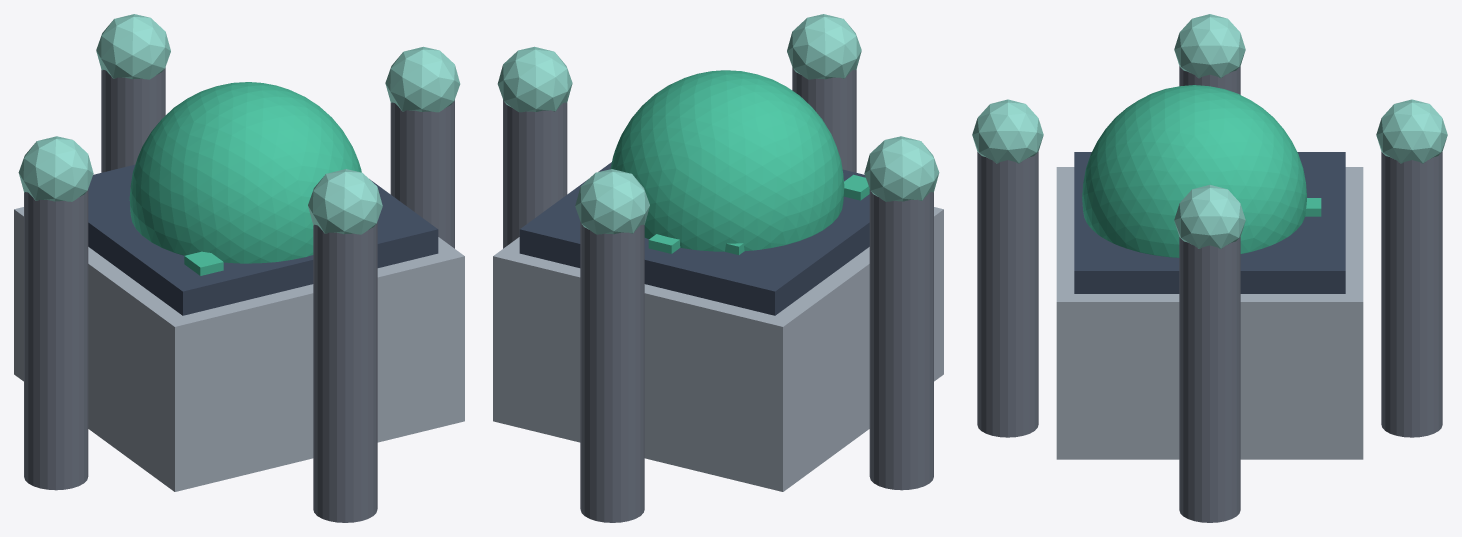
The model's file is aux-box.glb.
3 views of the same model, side by side, from view 1: azimuth 30°, elevation 25°; view 2: azimuth 150°, elevation 25°; view 3: azimuth 270°, elevation 25° (orthographic). The views are drawn at different scales.
Parts seen in each view (by area): view 1: part000, part002, part006, part008, part001, part004, part010, part005, part007, part011, part009, part016; view 2: part000, part002, part010, part008, part001, part004, part005, part011, part007, part009, part006, part016; view 3: part000, part002, part006, part010, part004, part001, part007, part011, part009, part005, part008.
Boxes of the visible parts, box(x1,y1,x2,y2) form: part000: box(14, 207, 464, 491); part002: box(129, 82, 361, 263); part006: box(313, 221, 377, 522); part008: box(24, 189, 88, 490); part001: box(88, 164, 438, 315); part004: box(390, 100, 454, 248); part010: box(101, 67, 165, 172); part005: box(385, 46, 460, 112); part007: box(308, 169, 382, 234); part011: box(96, 14, 170, 79); part009: box(18, 136, 93, 201); part016: box(184, 251, 223, 275); part000: box(493, 207, 943, 491); part002: box(610, 70, 844, 251); part010: box(580, 221, 644, 522); part008: box(869, 189, 933, 490); part001: box(519, 162, 869, 315); part004: box(503, 100, 567, 248); part005: box(497, 46, 572, 112); part011: box(575, 169, 649, 234); part007: box(787, 14, 861, 79); part009: box(864, 136, 939, 201); part006: box(792, 67, 856, 172); part016: box(843, 174, 869, 200); part000: box(1056, 167, 1363, 459); part002: box(1082, 85, 1306, 257); part006: box(977, 151, 1038, 437); part010: box(1381, 151, 1442, 437); part004: box(1179, 237, 1240, 522); part001: box(1074, 152, 1345, 293); part007: box(972, 99, 1043, 163); part011: box(1376, 99, 1447, 163); part009: box(1174, 14, 1245, 78); part005: box(1174, 185, 1245, 248); part008: box(1179, 66, 1240, 94).
Bounding box in the file's own units: 1.86 × 1.42 × 1.86.
